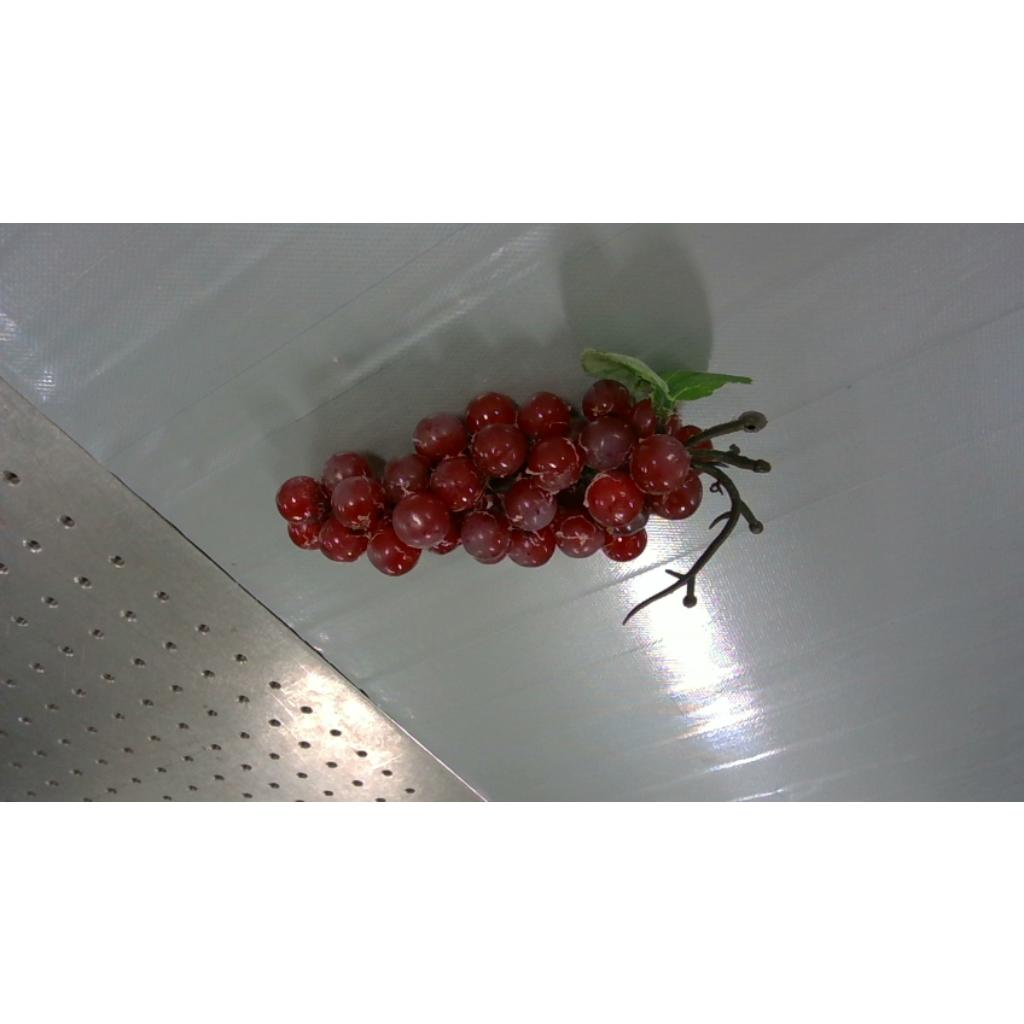grape: (276, 348, 770, 621)
